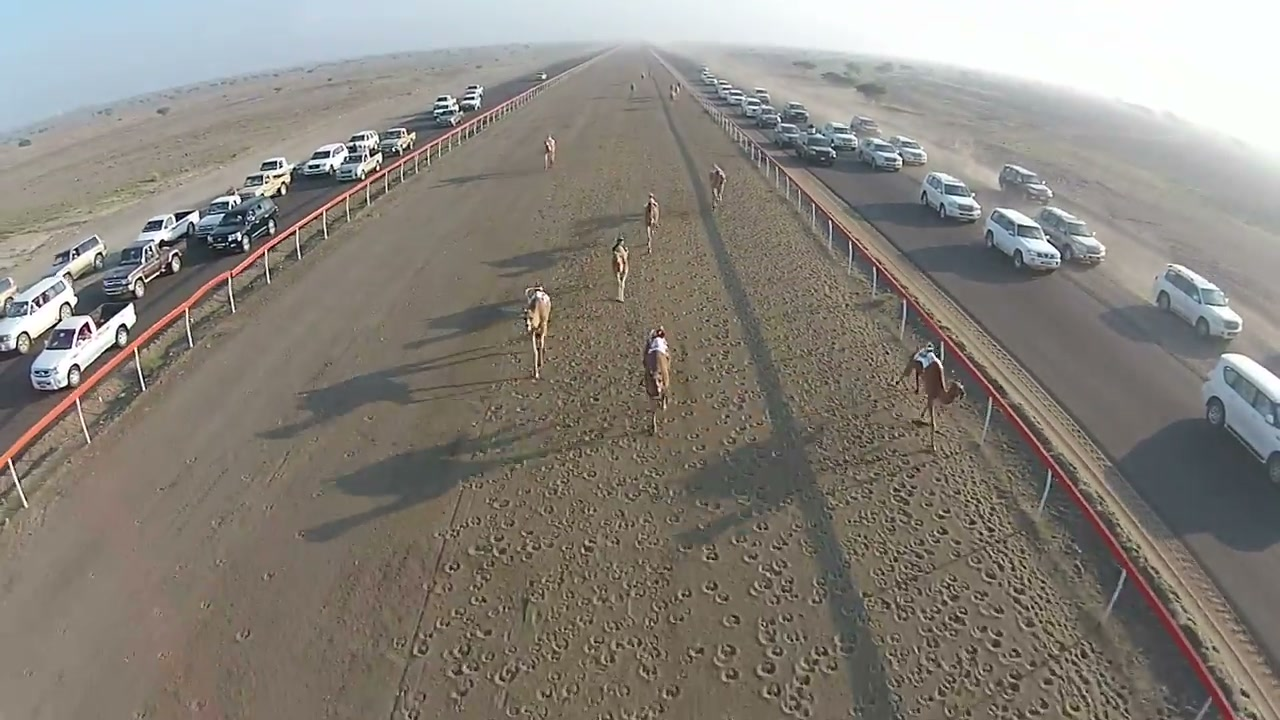animal_footprint: (655, 253, 855, 684), (891, 437, 1108, 718), (620, 404, 779, 695), (440, 375, 562, 698)
